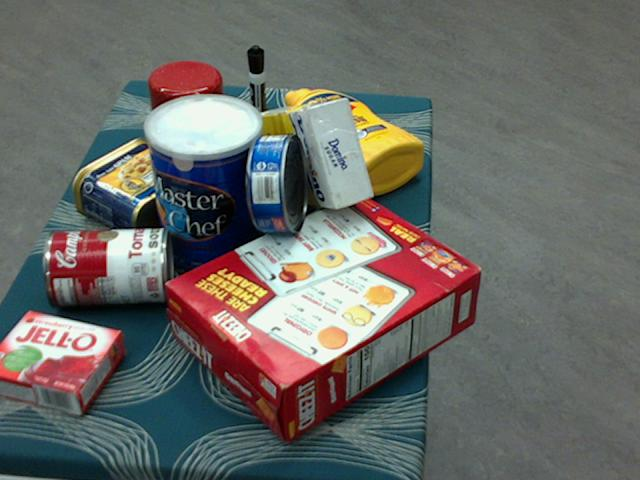cracker_box: (164, 190, 481, 441)
gelatin_box: (0, 309, 125, 415)
large_marker: (246, 45, 268, 149)
master_chef_can: (143, 96, 265, 282)
mug: (147, 62, 232, 162)
mustard_bottle: (283, 87, 423, 196)
potted_meat_can: (72, 139, 204, 241)
sugar_box: (252, 99, 372, 210)
tomato_soup_can: (42, 227, 172, 304)
tuna_fish_can: (246, 132, 307, 231)
